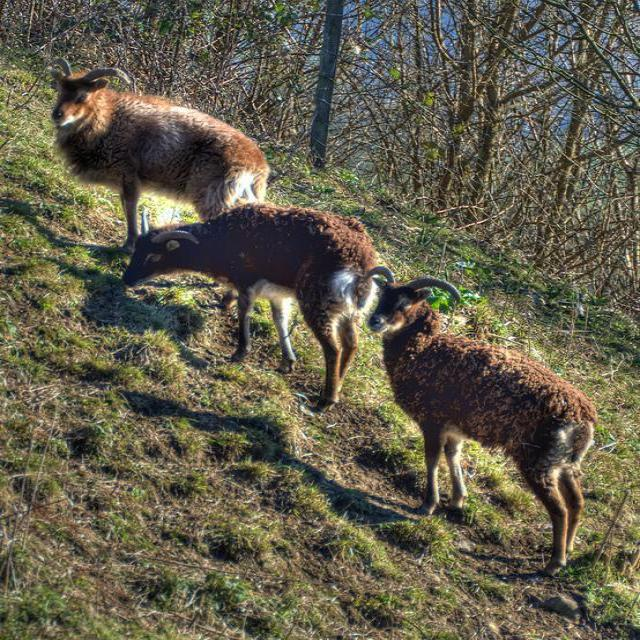Sheep: (356, 260, 600, 576), (122, 203, 382, 413), (54, 58, 280, 253)
